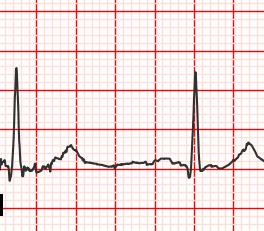Pathological Q Wave: (181, 159, 196, 182)
